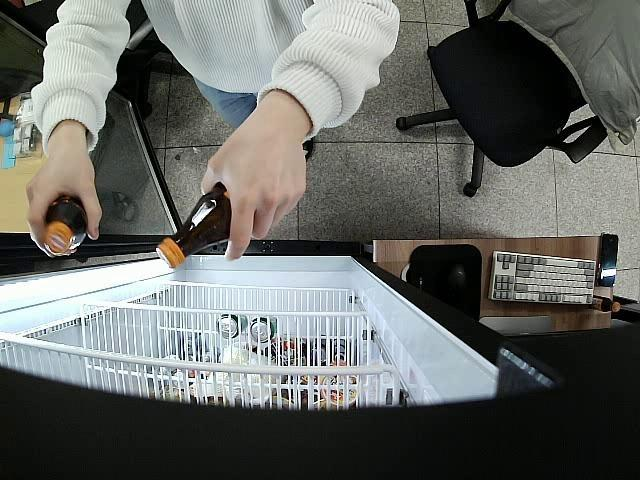17_vita500: (156, 184, 232, 268), (42, 196, 90, 256)
